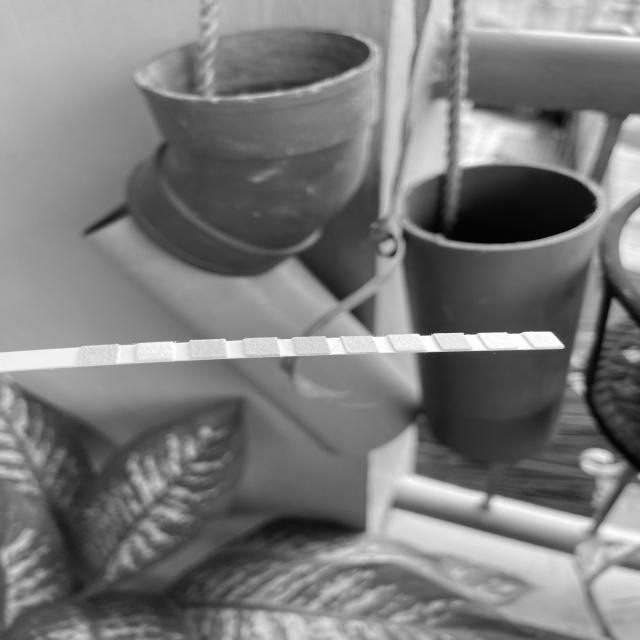Bilirubin: (139, 343, 172, 359)
Blood: (299, 338, 324, 353)
Glucose: (83, 347, 114, 364)
Ketone: (192, 340, 226, 356)
Leukocytes: (537, 332, 552, 346)
Nitrite: (490, 333, 506, 348)
Protein: (396, 335, 419, 350)
SpGravity: (247, 339, 279, 354)
Urobilinogen: (442, 334, 464, 349)
background: (0, 0, 640, 640)
pH: (349, 337, 373, 352)
strip: (1, 332, 567, 373)
